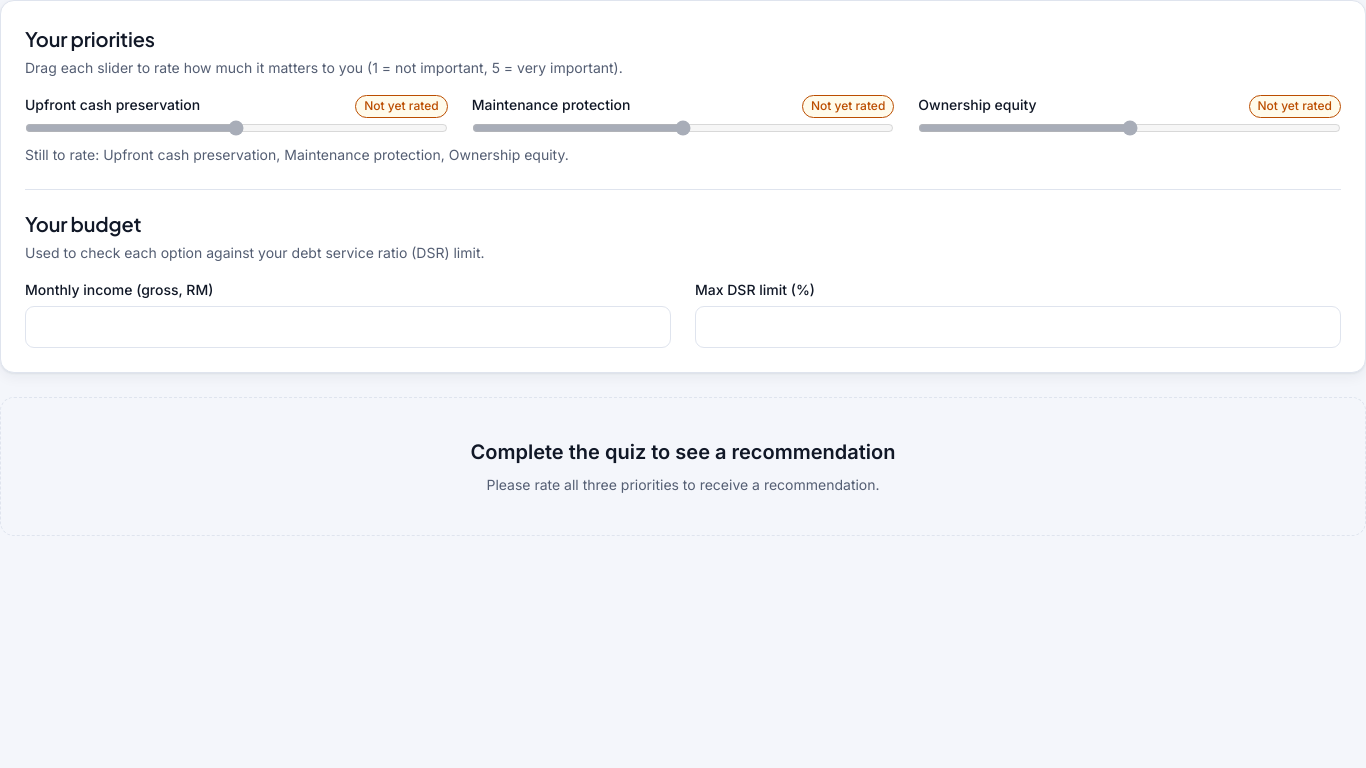
Scenario: RecommendationPanel › surfaces a DRF field error for max_dsr_percent, not the generic fallback
Set the slider labelled "Upfront cash preservation" to "5" at point(440, 128), box top-left (25, 124), bottom-right (448, 132)
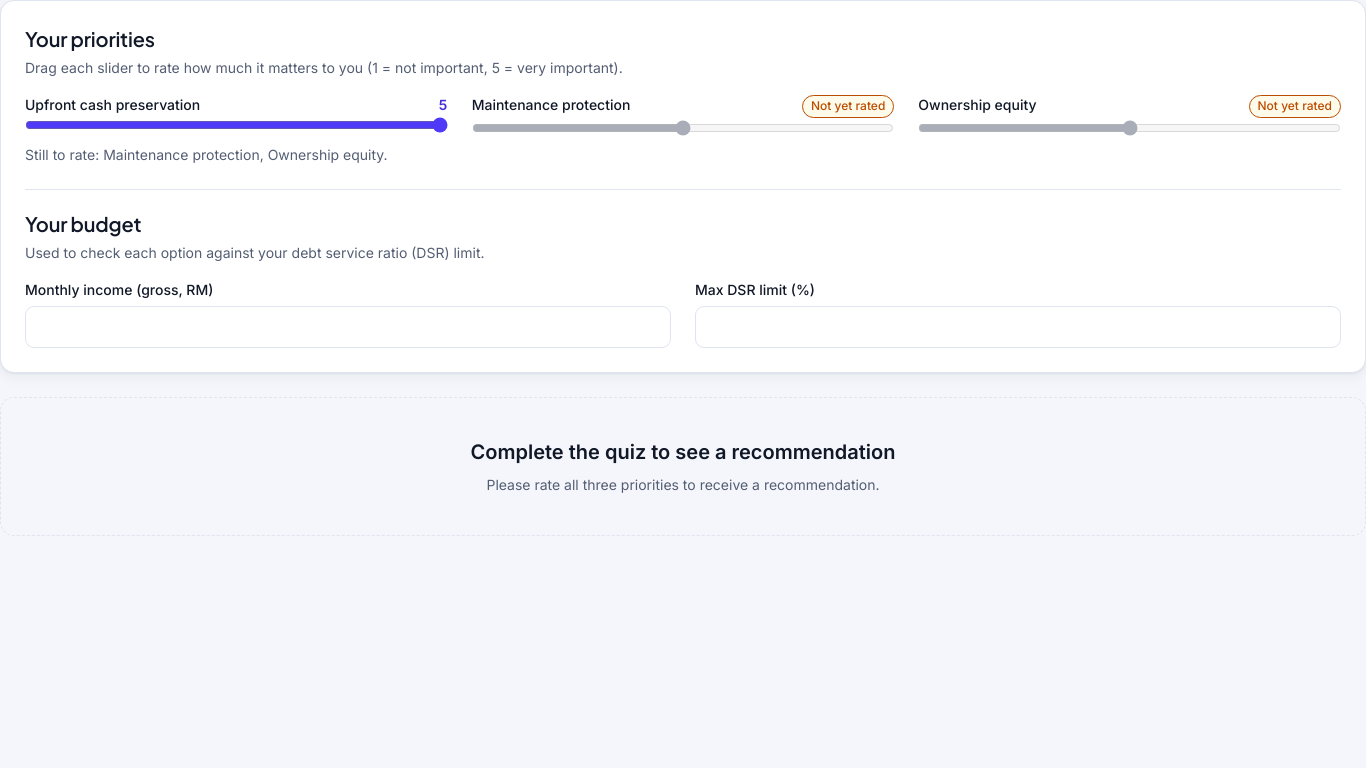
Set the slider labelled "Maintenance protection" to "4" at point(785, 128), box top-left (472, 124), bottom-right (894, 132)
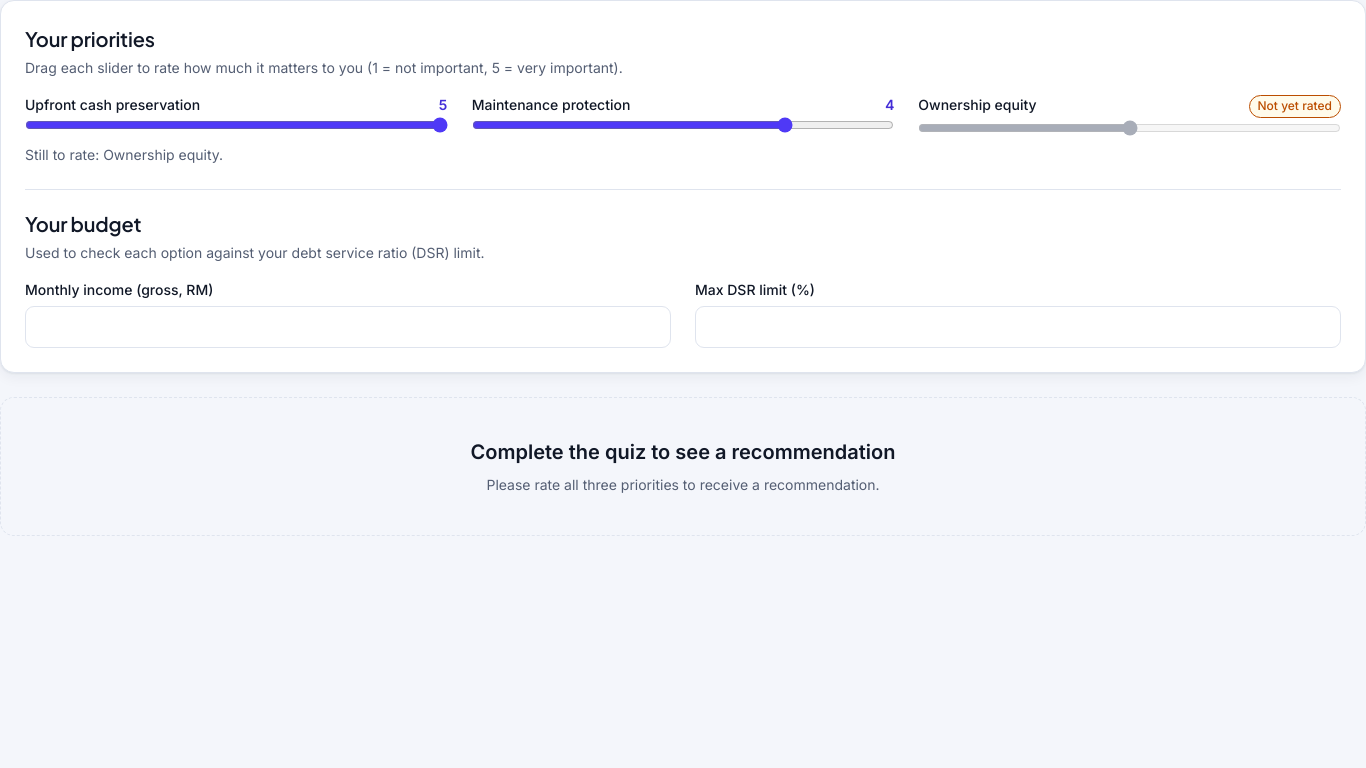
Set the slider labelled "Ownership equity" to "2" at point(1028, 128), box top-left (918, 124), bottom-right (1341, 132)
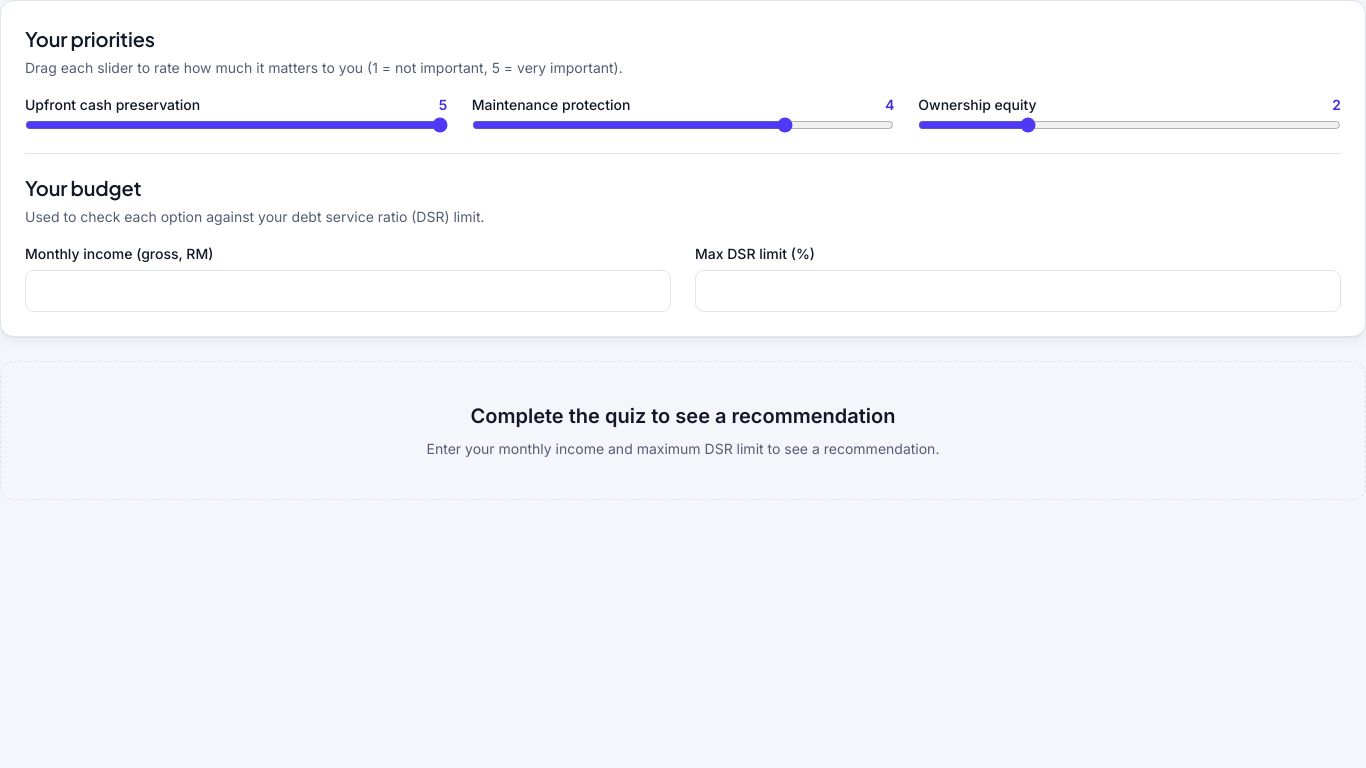
Type "8000" into the number field labelled "Monthly income (gross, RM)" at point(348, 291), box top-left (25, 270), bottom-right (671, 312)
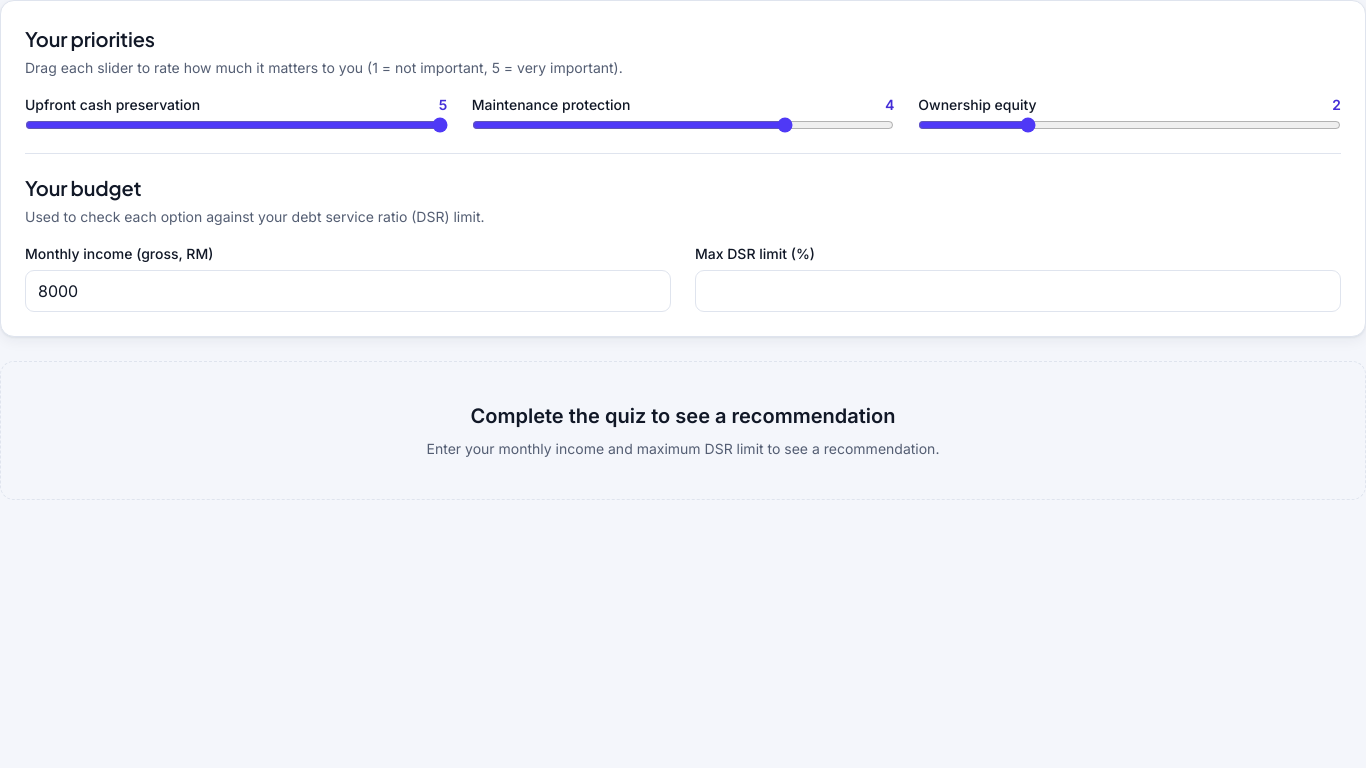
Type "150" into the number field labelled "Max DSR limit (%)" at point(1018, 291), box top-left (695, 270), bottom-right (1341, 312)
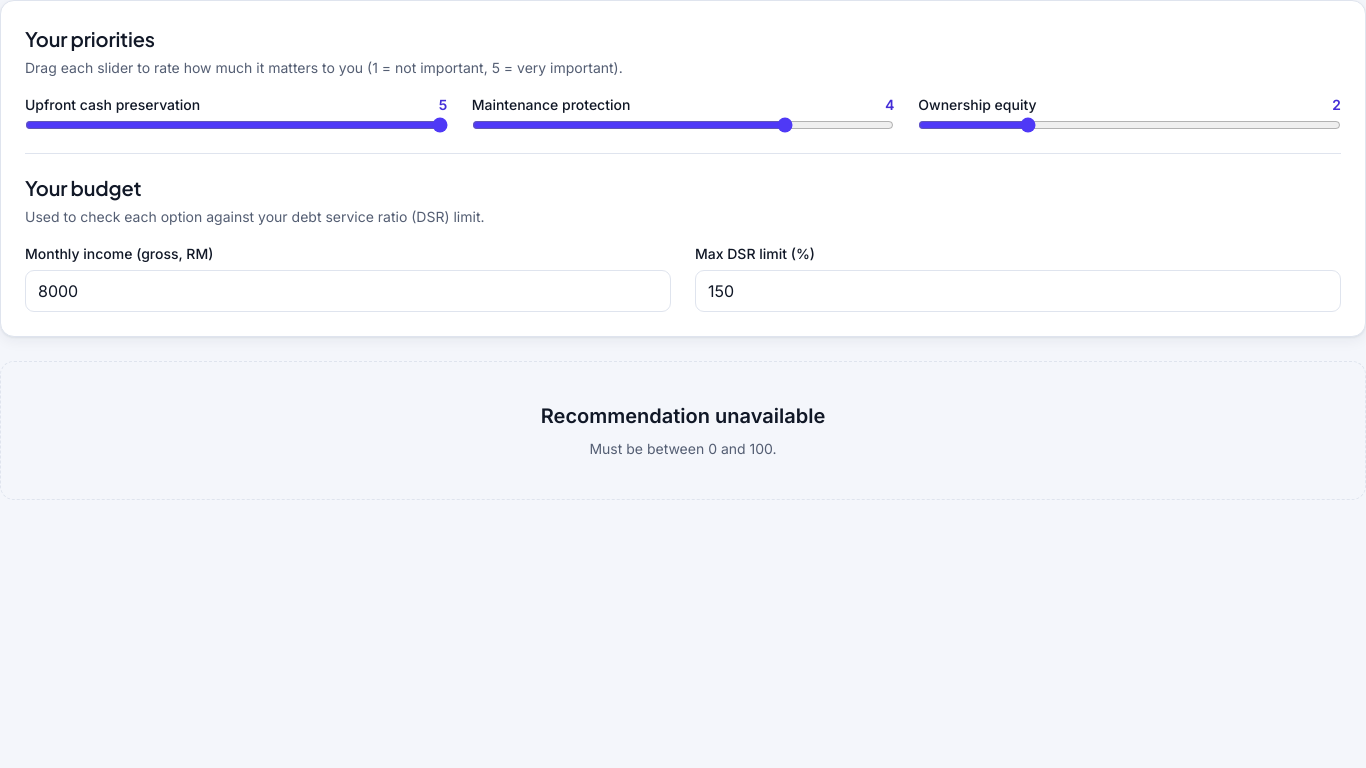
Expected: the text "Must be between 0 and 100." is shown, top-left (589, 438), bottom-right (777, 459)
